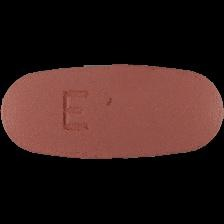68084-722: (0, 0, 224, 224)
